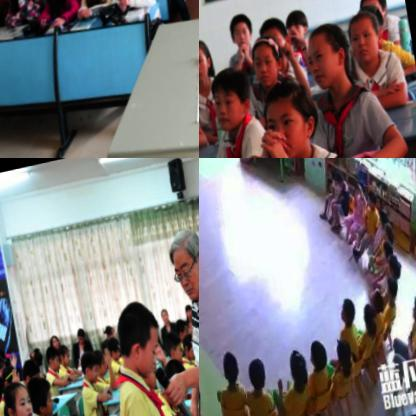head: (256, 84, 321, 158), (112, 299, 163, 381), (300, 24, 349, 94), (206, 68, 251, 134), (165, 225, 199, 306), (248, 38, 284, 91), (346, 16, 379, 70), (256, 17, 292, 65), (0, 379, 35, 416), (214, 347, 243, 391), (24, 375, 54, 416), (357, 7, 386, 47), (75, 347, 101, 391), (282, 349, 307, 390), (283, 13, 309, 52), (302, 336, 327, 375), (227, 16, 254, 51), (241, 356, 264, 395), (359, 0, 387, 28), (161, 333, 182, 368), (88, 347, 108, 382), (18, 360, 40, 391), (331, 339, 351, 372), (41, 344, 61, 376), (382, 257, 402, 287), (335, 299, 354, 330), (357, 302, 375, 334), (366, 290, 385, 319), (0, 362, 20, 389), (381, 278, 398, 309), (170, 317, 189, 344), (404, 292, 416, 333), (179, 335, 194, 366), (199, 43, 210, 85), (102, 336, 119, 363), (54, 344, 70, 369), (26, 346, 42, 369), (72, 327, 87, 350), (377, 242, 393, 263), (47, 331, 62, 353), (157, 307, 171, 330), (101, 322, 115, 341), (380, 225, 392, 247), (181, 304, 193, 325), (365, 193, 377, 214), (375, 213, 387, 233), (333, 172, 344, 191), (0, 352, 5, 381), (328, 168, 336, 185), (0, 345, 4, 365)
